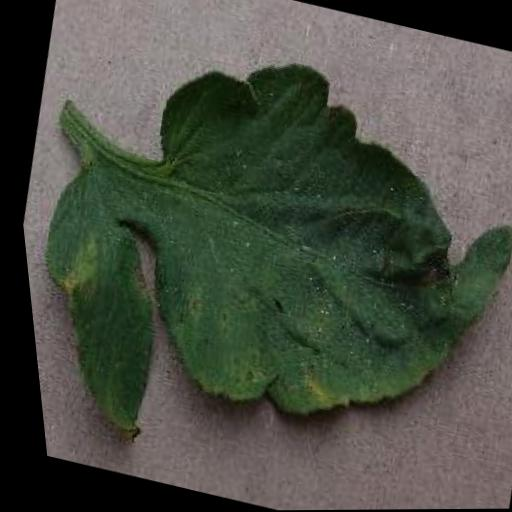Bacterial Spot: (1, 9, 512, 512)
